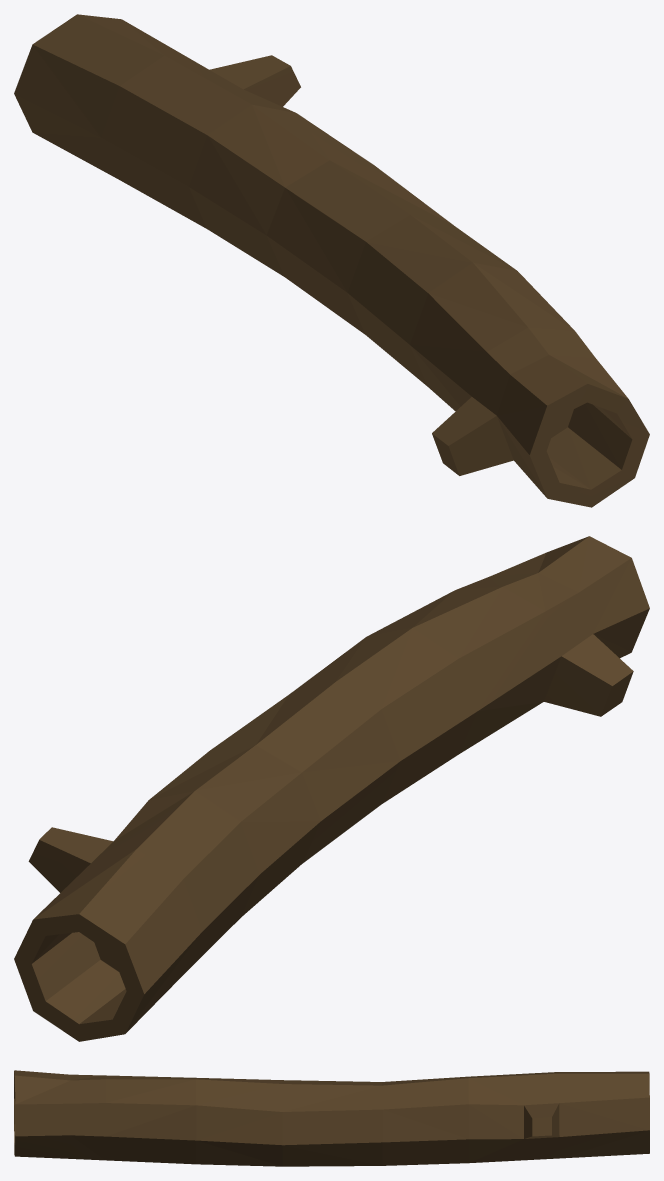
The model's file is Stump_07.fbx.
The picture shows the model from 3 angles, top to bottom: view 1: azimuth 30°, elevation 25°; view 2: azimuth 150°, elevation 25°; view 3: azimuth 270°, elevation 25°; orthographic projection. The views are drawn at different scales.
Visible parts, largest first — view 1: Stump_07; view 2: Stump_07; view 3: Stump_07.
Part boxes in pixels (bbox=[...]): Stump_07: bbox=[14, 14, 649, 507]; Stump_07: bbox=[14, 536, 649, 1041]; Stump_07: bbox=[14, 1070, 649, 1166].
Size of the model in its own units: 54.74 by 32.09 by 221.
